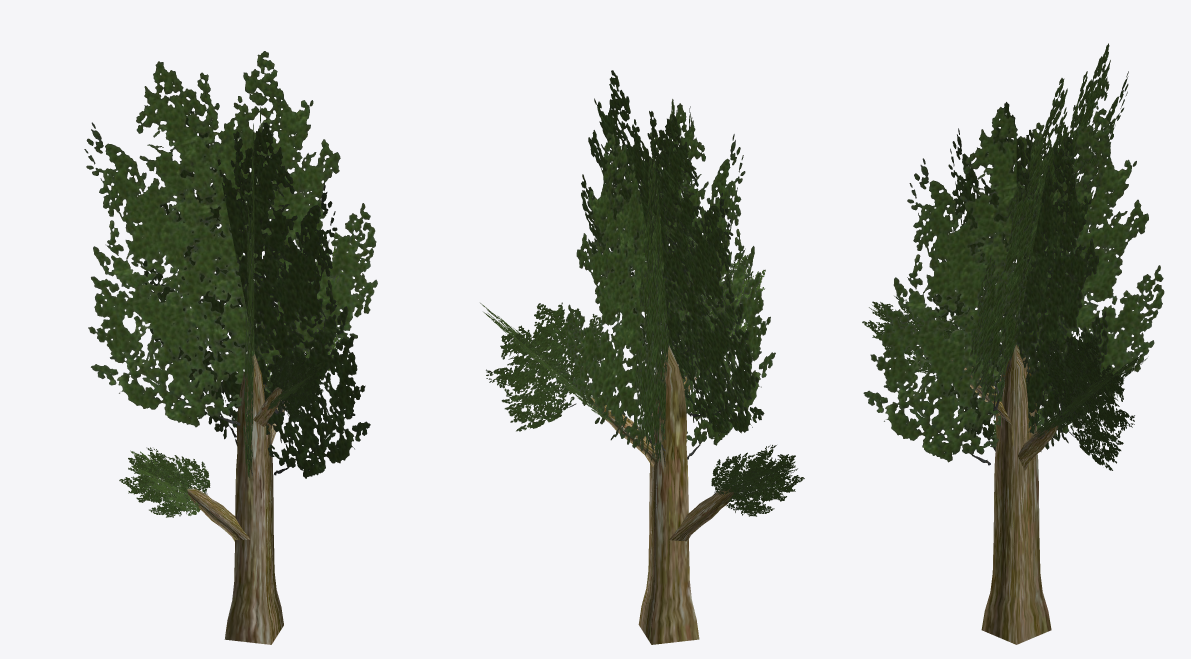
3 views of the same model, side by side, from view 1: azimuth 30°, elevation 25°; view 2: azimuth 150°, elevation 25°; view 3: azimuth 270°, elevation 25° (orthographic). The views are drawn at different scales.
Parts seen in each view (by area): view 1: MeshInstance3D14_8, MeshInstance3D6_7, MeshInstance3D_1, MeshInstance3D10_10, MeshInstance3D7_6, MeshInstance3D12_11, MeshInstance3D11_13, MeshInstance3D3_3; view 2: MeshInstance3D7_6, MeshInstance3D14_8, MeshInstance3D_1, MeshInstance3D8_9, MeshInstance3D6_7, MeshInstance3D10_10, MeshInstance3D3_3, MeshInstance3D9_14, MeshInstance3D11_13, MeshInstance3D2_2, MeshInstance3D13_12; view 3: MeshInstance3D6_7, MeshInstance3D7_6, MeshInstance3D_1, MeshInstance3D14_8, MeshInstance3D8_9, MeshInstance3D9_14, MeshInstance3D12_11, MeshInstance3D2_2.
Boxes of the visible parts, x1,y1,x2,y2 form: MeshInstance3D14_8: (84, 51, 377, 427); MeshInstance3D6_7: (142, 110, 370, 478); MeshInstance3D_1: (224, 354, 283, 644); MeshInstance3D10_10: (119, 447, 210, 517); MeshInstance3D7_6: (243, 106, 264, 480); MeshInstance3D12_11: (271, 352, 323, 419); MeshInstance3D11_13: (130, 450, 200, 515); MeshInstance3D3_3: (187, 488, 250, 541); MeshInstance3D7_6: (566, 103, 775, 459); MeshInstance3D14_8: (581, 70, 764, 433); MeshInstance3D_1: (638, 345, 699, 644); MeshInstance3D8_9: (486, 302, 608, 431); MeshInstance3D6_7: (635, 99, 694, 466); MeshInstance3D10_10: (711, 445, 804, 516); MeshInstance3D3_3: (669, 487, 733, 541); MeshInstance3D9_14: (480, 303, 613, 422); MeshInstance3D11_13: (716, 460, 797, 495); MeshInstance3D2_2: (590, 397, 656, 466); MeshInstance3D13_12: (683, 255, 765, 341); MeshInstance3D6_7: (863, 107, 1164, 465); MeshInstance3D7_6: (924, 102, 1108, 451); MeshInstance3D_1: (981, 344, 1051, 644); MeshInstance3D14_8: (970, 43, 1128, 411); MeshInstance3D8_9: (1045, 333, 1134, 470); MeshInstance3D9_14: (1034, 354, 1147, 438); MeshInstance3D12_11: (862, 296, 966, 374); MeshInstance3D2_2: (1018, 423, 1058, 470).
Size of the model in its own units: 7.47 by 13.08 by 6.49.
Materials: 5 (5 with a texture image).
